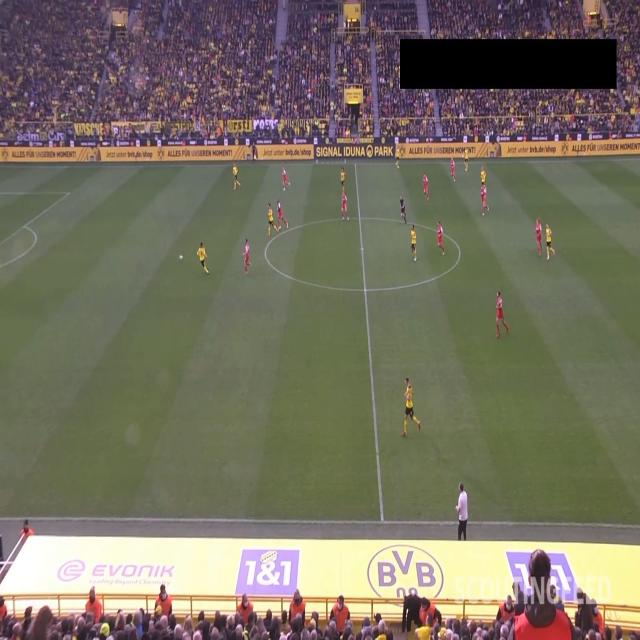ball: (178, 253, 184, 260)
